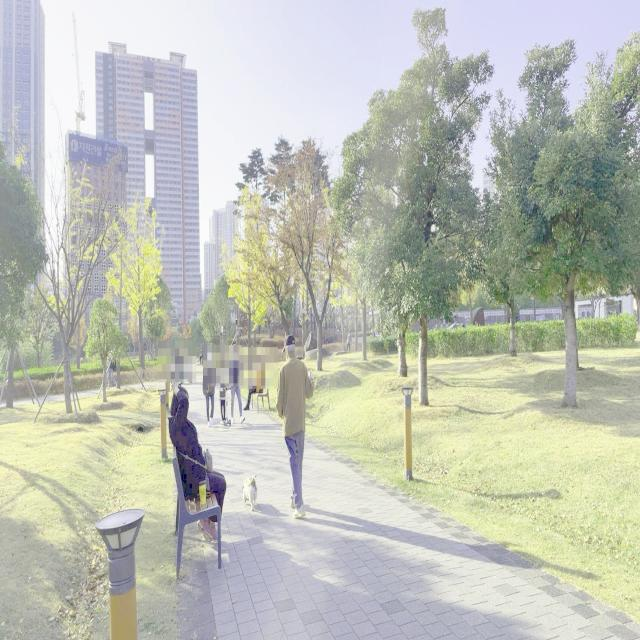Leashed_Dog: (242, 436, 293, 513)
